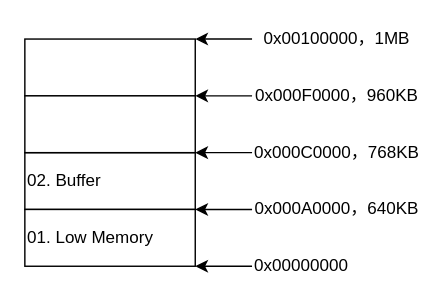
The diagram is 447 pixels wide and 304 high, and some of its shapes have lost their labels. Each missing label, with the box of its shape:
03. expansion ROMs: (23, 94, 195, 153)
04. BIOS: (23, 38, 195, 96)
